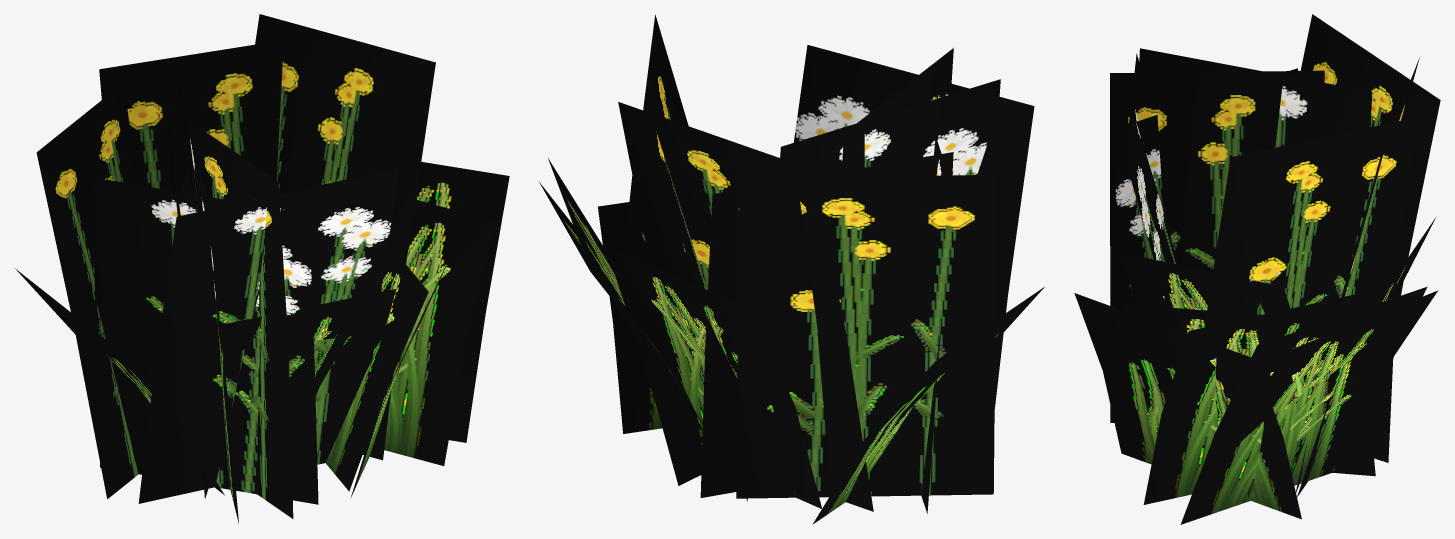
Rendered from Grass_Wildflower_A.fbx.
3 renders of one model, left to right at view 1: azimuth 30°, elevation 25°; view 2: azimuth 150°, elevation 25°; view 3: azimuth 270°, elevation 25°, orthographic. The views are drawn at different scales.
Visible parts, largest first — view 1: Grass_Wildflower_A_LOD0; view 2: Grass_Wildflower_A_LOD0; view 3: Grass_Wildflower_A_LOD0.
Part boxes in pixels (x1=…): Grass_Wildflower_A_LOD0: x1=15, y1=14, x2=509, y2=523; Grass_Wildflower_A_LOD0: x1=539, y1=15, x2=1044, y2=524; Grass_Wildflower_A_LOD0: x1=1074, y1=14, x2=1440, y2=524.
Size of what is drawn, in the model's own units: 0.7354 by 0.5729 by 0.5213.
